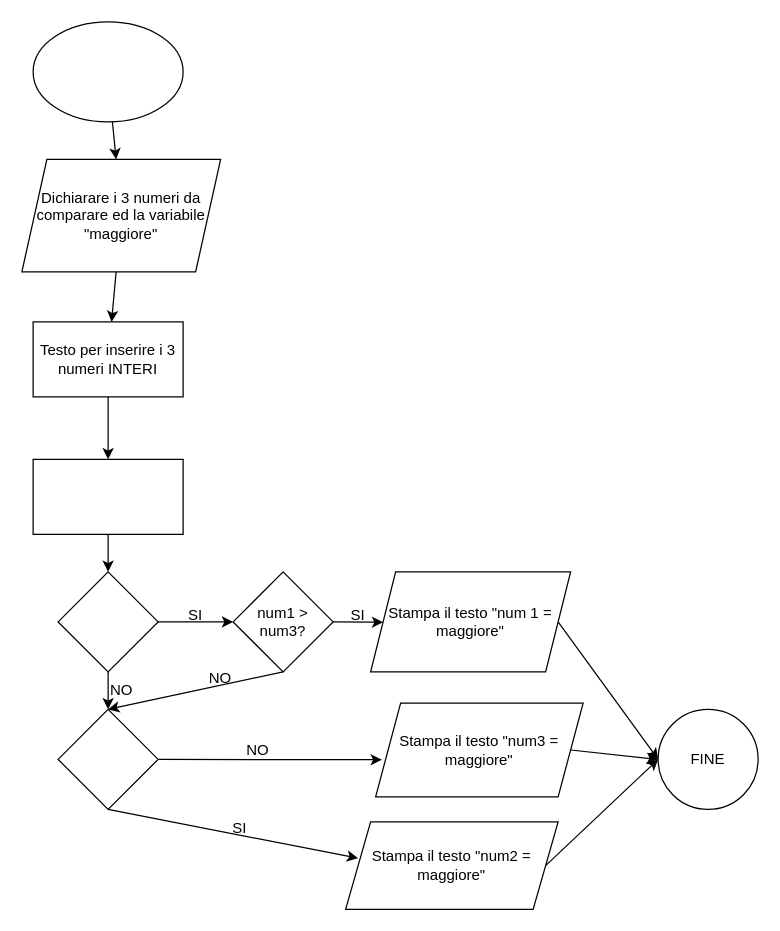
Some shapes in this 780 by 931 pixel diagram are drawn without their labels. The centre of each missing label's shape, as x and y in pixels:
INIZIO con Intestazione: the point at 107,71
num 2 > num3?: the point at 107,758
num1 = maggiore;: the point at 107,496
num1 > num2?: the point at 107,621
